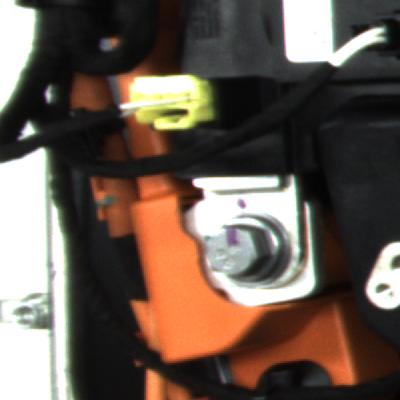nut_b: (197, 203, 305, 296)
